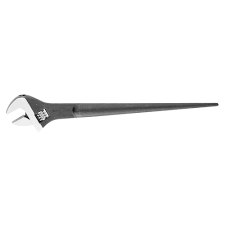wrench: (6, 91, 225, 128)
